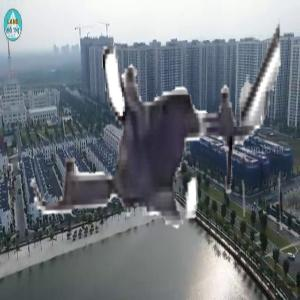drone: (21, 10, 287, 276)
